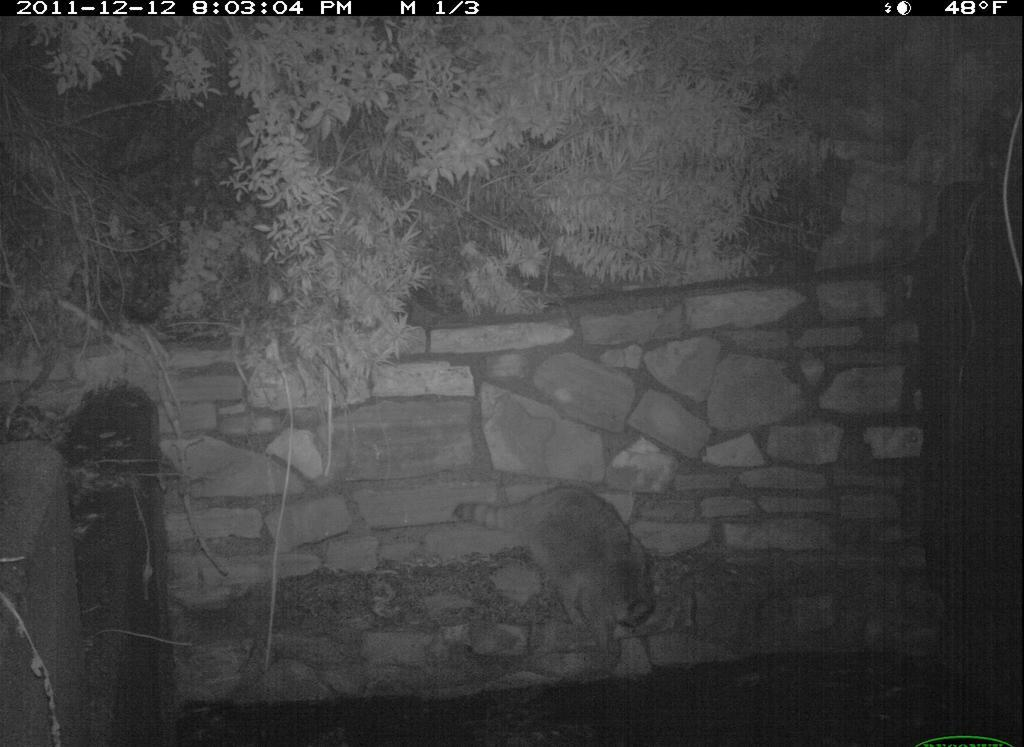raccoon: (450, 474, 662, 651)
